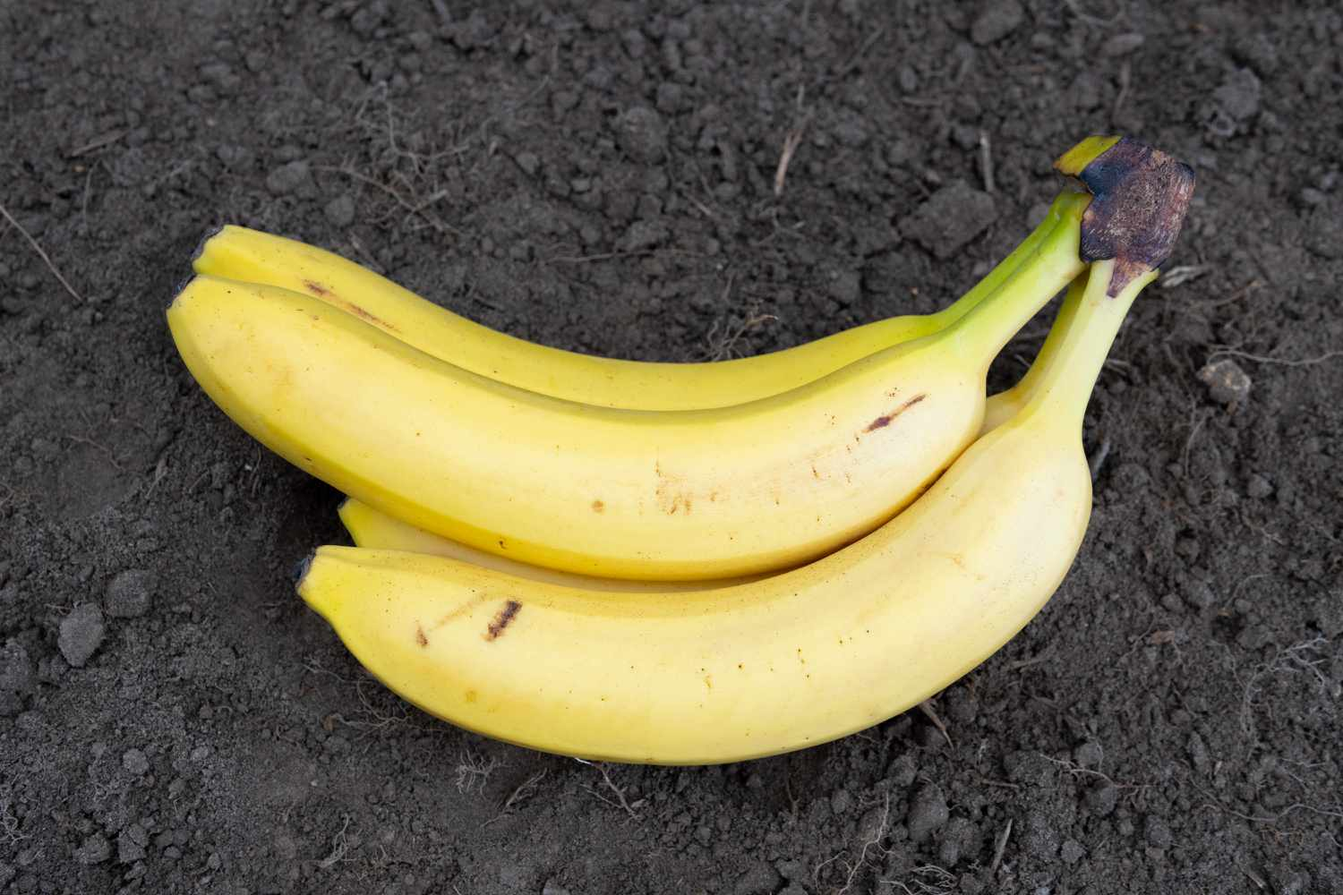banana: (158, 123, 1194, 771)
